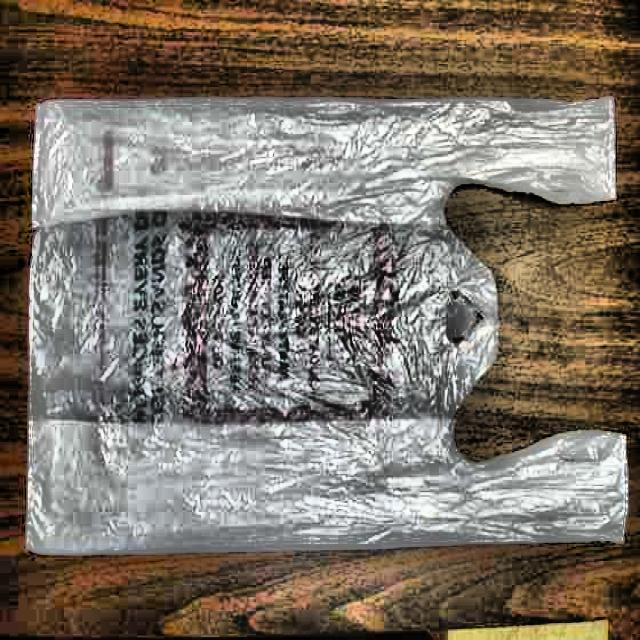Plastic: (20, 75, 640, 579)
